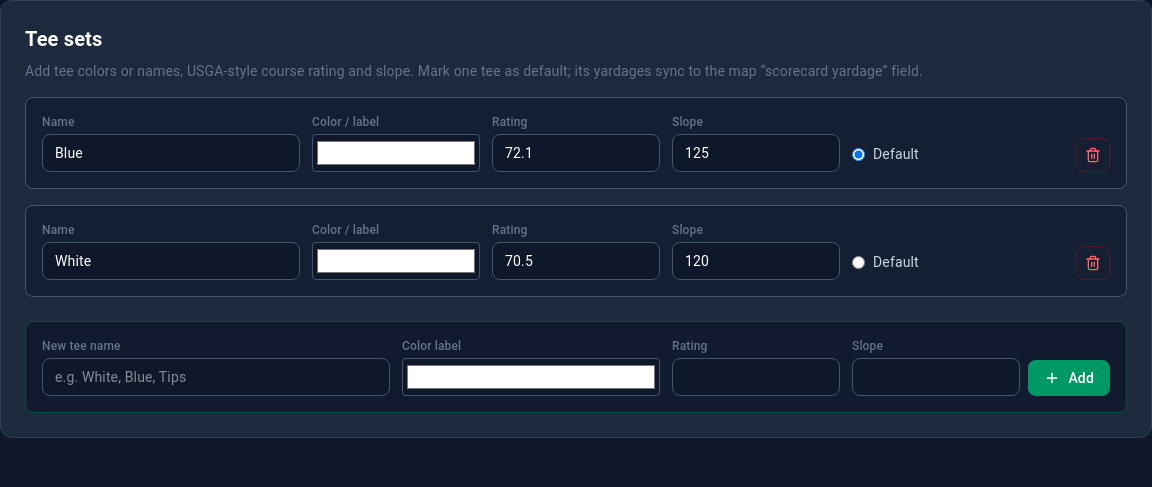
Test: CourseTeeSets Component › Adding a Tee › shows error if name is empty
Click the button "Add" at (1069, 378), box [1028, 360, 1110, 396]
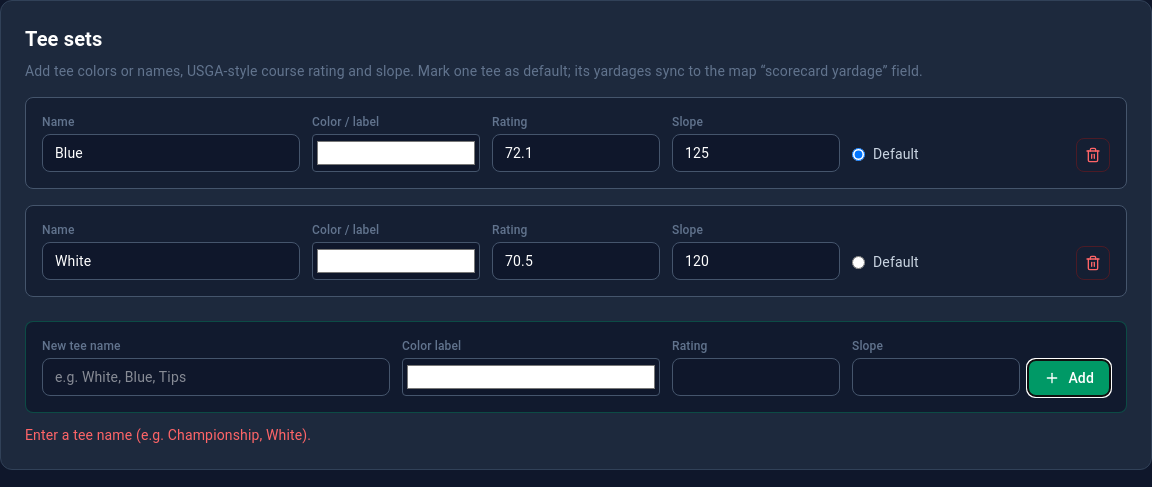
Expected: the text "Enter a tee name (e.g. Championship, White)." is shown, [25, 427, 311, 443]
